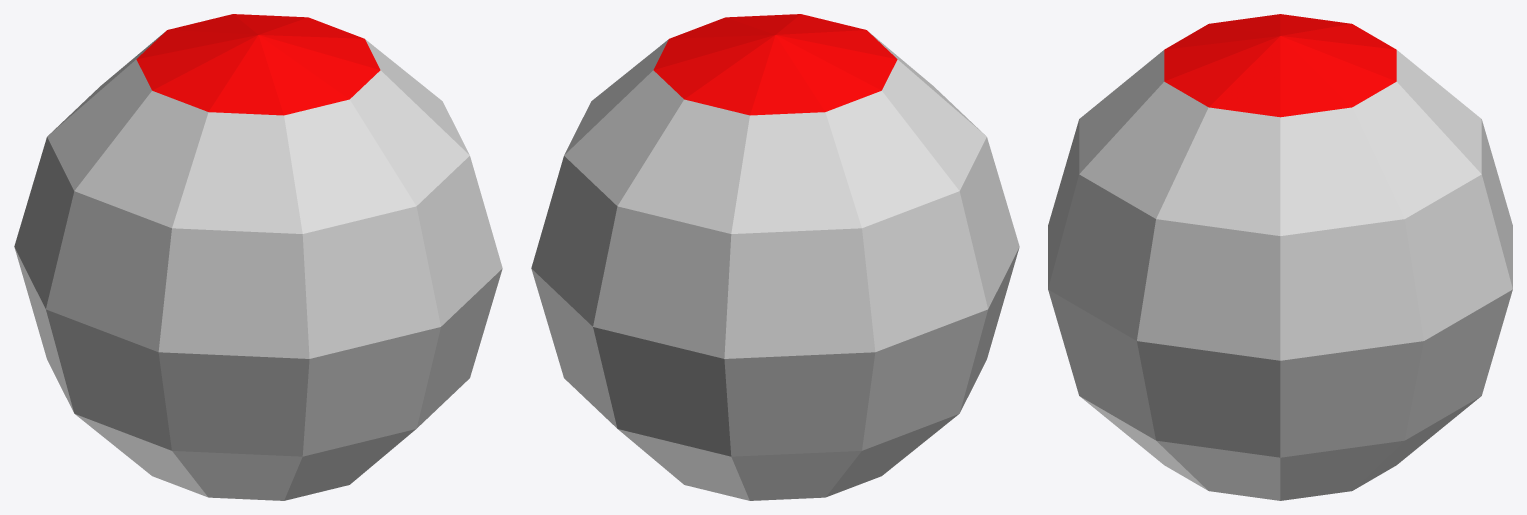
The model's file is ball_cue.glb.
The picture shows the model from 3 angles, left to right: view 1: azimuth 30°, elevation 25°; view 2: azimuth 150°, elevation 25°; view 3: azimuth 270°, elevation 25°; orthographic projection.
Visible parts, largest first — view 1: Ball; view 2: Ball; view 3: Ball.
Part boxes in pixels (bbox=[...]): Ball: bbox=[14, 14, 502, 500]; Ball: bbox=[531, 14, 1019, 500]; Ball: bbox=[1048, 14, 1512, 500].
Size of the model in its own units: 0.09 by 0.09 by 0.0856.
